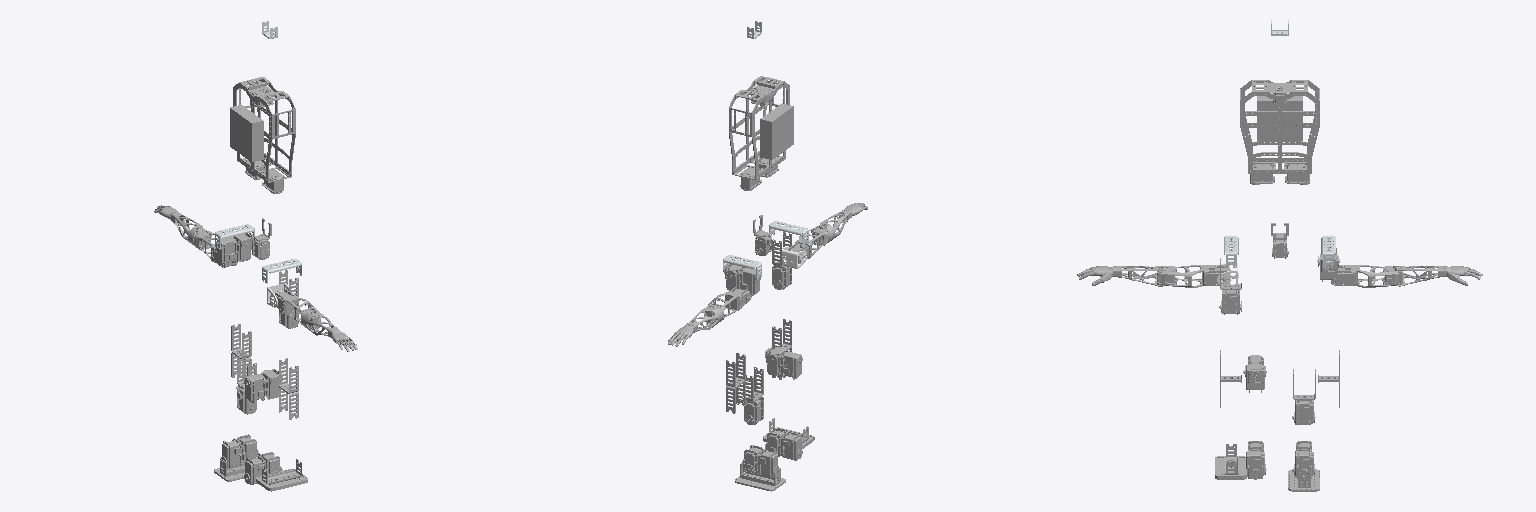
--- Facts derived from the render (not from the file) ---
Views: 3 orthographic renders of the robot side by side, from view 1: azimuth 30°, elevation 25°; view 2: azimuth 150°, elevation 25°; view 3: azimuth 270°, elevation 25°.
Robot: humanoid — 24 links, 23 joints (20 revolute, 3 fixed); root link base_link; default pose: every joint at zero.
Visible links, largest first — view 1: torso, leg_r_hip_r, leg_l_ankle_p, leg_l_hip_r, leg_r_knee, leg_r_ankle_r, arm_r_elbow, leg_r_ankle_p, arm_r_shou_r, leg_l_knee, leg_l_hip_p, arm_l_elbow; view 2: torso, leg_r_hip_r, leg_l_knee, leg_l_ankle_p, leg_l_hip_p, leg_r_ankle_p, leg_l_hip_r, leg_r_hip_p, arm_l_elbow, arm_l_shou_r, leg_l_ankle_r, arm_r_elbow (+1 smaller); view 3: torso, arm_l_shou_r, arm_r_shou_r, arm_r_elbow, arm_l_elbow, leg_r_ankle_r, leg_r_ankle_p, leg_l_hip_p, leg_r_hip_r, leg_l_ankle_p, leg_r_hip_p, leg_l_ankle_r.
Boxes of the visible links, x1,y1,x2,y2 form: torso: [230, 77, 295, 193]; leg_r_hip_r: [244, 369, 282, 402]; leg_l_ankle_p: [221, 434, 258, 467]; leg_l_hip_r: [216, 233, 253, 265]; leg_r_knee: [279, 358, 298, 419]; leg_r_ankle_r: [256, 459, 307, 491]; arm_r_elbow: [302, 311, 357, 351]; leg_r_ankle_p: [244, 452, 282, 484]; arm_r_shou_r: [274, 290, 320, 329]; leg_l_knee: [231, 324, 251, 378]; leg_l_hip_p: [236, 355, 256, 414]; arm_l_elbow: [154, 205, 203, 244]; torso: [729, 76, 793, 190]; leg_r_hip_r: [765, 347, 802, 379]; leg_l_knee: [726, 353, 745, 413]; leg_l_ankle_p: [741, 445, 778, 477]; leg_l_hip_p: [744, 367, 763, 424]; leg_r_ankle_p: [765, 428, 802, 460]; leg_l_hip_r: [723, 264, 760, 295]; leg_r_hip_p: [772, 232, 791, 289]; arm_l_elbow: [668, 306, 722, 346]; arm_l_shou_r: [704, 287, 751, 324]; leg_l_ankle_r: [735, 463, 785, 491]; arm_r_elbow: [819, 203, 867, 242]; torso: [1240, 80, 1319, 184]; arm_l_shou_r: [1331, 265, 1402, 287]; arm_r_shou_r: [1157, 265, 1228, 287]; arm_r_elbow: [1077, 266, 1166, 286]; arm_l_elbow: [1393, 266, 1482, 286]; leg_r_ankle_r: [1215, 444, 1246, 479]; leg_r_ankle_p: [1245, 441, 1266, 479]; leg_l_hip_p: [1292, 369, 1315, 424]; leg_r_hip_r: [1243, 355, 1266, 392]; leg_l_ankle_p: [1292, 441, 1315, 478]; leg_r_hip_p: [1219, 258, 1241, 314]; leg_l_ankle_r: [1288, 469, 1319, 491].
Bounding box of the posed robot: 0.14 × 1.02 × 1.3 m (x, y, z).
20 mesh visuals loaded from 21 distinct referenced files (20 binary STL); not drawn: 1 (reference not matched to a file when rendering).

The robot description file, URDF, robot "humanoid":
<robot
  name="humanoid">
  <link name="base_link"/>
  <joint name="waist" type="fixed">
    <parent link="base_link"/>
    <child link="torso"/>
    <origin rpy="0 0 0" xyz="0 0 0"/>
  </joint>
  <link name="torso">
    <inertial>
      <origin
        xyz="-0.0273890624666731 -6.24390539272213E-11 0.0090874604275595"
        rpy="0 0 0" />
      <mass
        value="1.79837714981727" />
      <inertia
        ixx="0.00965569591913053"
        ixy="2.62519057565357E-11"
        ixz="0.000466515313675841"
        iyy="0.00841839017045047"
        iyz="1.1590569581039E-11"
        izz="0.00428669058417288" />
    </inertial>
    <visual>
      <origin
        xyz="0 0 0"
        rpy="0 0 0" />
      <geometry>
        <mesh
          filename="package://meshes/torso.STL" />
      </geometry>
      <material
        name="">
        <color
          rgba="0.752941176470588 0.752941176470588 0.752941176470588 1" />
      </material>
    </visual>
    <collision>
      <origin
        xyz="0 0 0"
        rpy="0 0 0" />
      <geometry>
        <mesh
          filename="package://meshes/torso.STL" />
      </geometry>
    </collision>
  </link>
  <link
    name="head_p">
    <inertial>
      <origin
        xyz="-2.77555756156289E-17 -2.77555756156289E-17 -0.0235358644573578"
        rpy="0 0 0" />
      <mass
        value="0.00919745164566107" />
      <inertia
        ixx="0"
        ixy="0"
        ixz="0"
        iyy="0"
        iyz="0"
        izz="0" />
    </inertial>
    <visual>
      <origin
        xyz="0 0 0"
        rpy="0 0 0" />
      <geometry>
        <mesh
          filename="package://meshes/head_p.STL" />
      </geometry>
      <material
        name="">
        <color
          rgba="0.898039215686275 0.917647058823529 0.929411764705882 1" />
      </material>
    </visual>
    <collision>
      <origin
        xyz="0 0 0"
        rpy="0 0 0" />
      <geometry>
        <mesh
          filename="package://meshes/head_p.STL" />
      </geometry>
    </collision>
  </link>
  <joint
    name="j_head_p"
    type="revolute">
    <origin
      xyz="0.00749999999999998 0 0.154592980337507"
      rpy="-5.40227318867849E-16 3.26570417148563E-16 1.11022302462516E-16" />
    <parent
      link="torso" />
    <child
      link="head_p" />
    <axis
      xyz="0 0 1" />
    <limit effort="2.5" lower="-1.57" upper="1.57" velocity="1.5"/>
  </joint>
  <link
    name="head_t">
    <inertial>
      <origin
        xyz="0.000362537622920212 6.79783928278499E-06 0.0434079674333546"
        rpy="0 0 0" />
      <mass
        value="0.250310857747946" />
      <inertia
        ixx="0.000109893254796935"
        ixy="6.15726205395829E-10"
        ixz="-1.29430349863509E-06"
        iyy="0.000109000514641629"
        iyz="9.79402169676494E-08"
        izz="9.33135190800592E-07" />
    </inertial>
    <visual>
      <origin
        xyz="0 0 0"
        rpy="0 0 0" />
      <geometry>
        <mesh
          filename="package://meshes/head_t.STL" />
      </geometry>
      <material
        name="">
        <color
          rgba="0.752941176470588 0.752941176470588 0.752941176470588 1" />
      </material>
    </visual>
    <collision>
      <origin
        xyz="0 0 0"
        rpy="0 0 0" />
      <geometry>
        <mesh
          filename="package://meshes/head_t.STL" />
      </geometry>
    </collision>
  </link>
  <joint
    name="j_head_t"
    type="revolute">
    <origin
      xyz="0 -0.000250000000004302 0"
      rpy="1.98830324825673E-16 -4.37592719611079E-16 -1.11022302462516E-16" />
    <parent
      link="head_p" />
    <child
      link="head_t" />
    <axis
      xyz="0 1 0" />
    <limit effort="2.5" lower="-1.05" upper="1.05" velocity="1.5"/>
  </joint>
  <link
    name="leg_r_hip_y">
    <inertial>
      <origin
        xyz="-0.019 6.93889390390723E-18 0.0296849328442002"
        rpy="0 0 0" />
      <mass
        value="0.0310306790400135" />
      <inertia
        ixx="0"
        ixy="0"
        ixz="0"
        iyy="0"
        iyz="0"
        izz="0" />
    </inertial>
    <visual>
      <origin
        xyz="0 0 0"
        rpy="0 0 0" />
      <geometry>
        <mesh
          filename="package://meshes/leg_r_hip_y.STL" />
      </geometry>
      <material
        name="">
        <color
          rgba="0.898039215686275 0.917647058823529 0.929411764705882 1" />
      </material>
    </visual>
    <collision>
      <origin
        xyz="0 0 0"
        rpy="0 0 0" />
      <geometry>
        <mesh
          filename="package://meshes/leg_r_hip_y.STL" />
      </geometry>
    </collision>
  </link>
  <joint
    name="j_leg_r_hip_y"
    type="revolute">
    <origin
      xyz="0 -0.0612500000000002 -0.179371019662496"
      rpy="-3.41396994042176E-16 0 0" />
    <parent
      link="torso" />
    <child
      link="leg_r_hip_y" />
    <axis
      xyz="0 0 -1" />
    <limit effort="6.0" lower="-1.05" upper="1.05" velocity="1.5"/>
  </joint>
  <link
    name="leg_r_hip_r">
    <inertial>
      <origin
        xyz="-0.0199386693707081 8.18688971842077E-05 -0.0148029204359108"
        rpy="0 0 0" />
      <mass
        value="0.327163601832517" />
      <inertia
        ixx="7.62597114711917E-06"
        ixy="-5.58485632325043E-07"
        ixz="-1.06787629028062E-05"
        iyy="0.000186208035995009"
        iyz="-1.51343454864388E-06"
        izz="0.000185497003559403" />
    </inertial>
    <visual>
      <origin
        xyz="0 0 0"
        rpy="0 0 0" />
      <geometry>
        <mesh
          filename="package://meshes/leg_r_hip_r.STL" />
      </geometry>
      <material
        name="">
        <color
          rgba="0.752941176470588 0.752941176470588 0.752941176470588 1" />
      </material>
    </visual>
    <collision>
      <origin
        xyz="0 0 0"
        rpy="0 0 0" />
      <geometry>
        <mesh
          filename="package://meshes/leg_r_hip_r.STL" />
      </geometry>
    </collision>
  </link>
  <joint
    name="j_leg_r_hip_r"
    type="revolute">
    <origin
      xyz="0.000499999999999945 0 0"
      rpy="1.13124042283043E-16 -2.61242557992875E-16 6.50156804127527E-17" />
    <parent
      link="leg_r_hip_y" />
    <child
      link="leg_r_hip_r" />
    <axis
      xyz="1 0 0" />
    <limit effort="8.4" lower="-1.05" upper="1.05" velocity="1.5"/> 
  </joint>
  <link
    name="leg_r_hip_p">
    <inertial>
      <origin
        xyz="-4.73613010784357E-05 0.000146666146782187 -0.10142537495828"
        rpy="0 0 0" />
      <mass
        value="0.187828254323874" />
      <inertia
        ixx="9.89657264075222E-05"
        ixy="-1.56062320516749E-09"
        ixz="2.1852497720039E-07"
        iyy="9.65248837003217E-05"
        iyz="1.78170551469187E-06"
        izz="2.45902731639314E-06" />
    </inertial>
    <visual>
      <origin
        xyz="0 0 0"
        rpy="0 0 0" />
      <geometry>
        <mesh
          filename="package://meshes/leg_r_hip_p.STL" />
      </geometry>
      <material
        name="">
        <color
          rgba="0.752941176470588 0.752941176470588 0.752941176470588 1" />
      </material>
    </visual>
    <collision>
      <origin
        xyz="0 0 0"
        rpy="0 0 0" />
      <geometry>
        <mesh
          filename="package://meshes/leg_r_hip_p.STL" />
      </geometry>
    </collision>
  </link>
  <joint
    name="j_leg_r_hip_p"
    type="revolute">
    <origin
      xyz="0 0 0"
      rpy="-1.13124042283043E-16 2.15500304946813E-16 -1.04264380931413E-17" />
    <parent
      link="leg_r_hip_r" />
    <child
      link="leg_r_hip_p" />
    <axis
      xyz="0 1 0" />
    <limit effort="8.4" lower="-1.57" upper="1.57" velocity="1.5"/>
  </joint>
  <link
    name="leg_r_knee">
    <inertial>
      <origin
        xyz="6.10622663543836E-16 4.16333634234434E-17 -0.0720000000000057"
        rpy="0 0 0" />
      <mass
        value="0.0471244364483381" />
      <inertia
        ixx="3.47240331970278E-05"
        ixy="2.08114259181133E-24"
        ixz="6.38005899850245E-21"
        iyy="3.47240295022833E-05"
        iyz="-1.13268007040326E-08"
        izz="3.69474441842752E-12" />
    </inertial>
    <visual>
      <origin
        xyz="0 0 0"
        rpy="0 0 0" />
      <geometry>
        <mesh
          filename="package://meshes/leg_r_knee.STL" />
      </geometry>
      <material
        name="">
        <color
          rgba="0.752941176470588 0.752941176470588 0.752941176470588 1" />
      </material>
    </visual>
    <collision>
      <origin
        xyz="0 0 0"
        rpy="0 0 0" />
      <geometry>
        <mesh
          filename="package://meshes/leg_r_knee.STL" />
      </geometry>
    </collision>
  </link>
  <joint
    name="j_leg_r_knee"
    type="revolute">
    <origin
      xyz="0 0 -0.12650000000002"
      rpy="-1.66533453693773E-16 -2.81587712202917E-16 4.90950377141293E-16" />
    <parent
      link="leg_r_hip_p" />
    <child
      link="leg_r_knee" />
    <axis
      xyz="0 1 0" />
    <limit effort="8.4" lower="-1.57" upper="1.57" velocity="1.5"/>
  </joint>
  <link
    name="leg_r_ankle_p">
    <inertial>
      <origin
        xyz="-0.019967775832417 8.5312065049449E-05 0.0148115624874952"
        rpy="0 0 0" />
      <mass
        value="0.326972712808706" />
      <inertia
        ixx="7.58393095523023E-06"
        ixy="-5.32557584809135E-07"
        ixz="1.05552686931231E-05"
        iyy="0.00018575582149946"
        iyz="1.51216245176916E-06"
        izz="0.000185086455382627" />
    </inertial>
    <visual>
      <origin
        xyz="0 0 0"
        rpy="0 0 0" />
      <geometry>
        <mesh
          filename="package://meshes/leg_r_ankle_p.STL" />
      </geometry>
      <material
        name="">
        <color
          rgba="0.752941176470588 0.752941176470588 0.752941176470588 1" />
      </material>
    </visual>
    <collision>
      <origin
        xyz="0 0 0"
        rpy="0 0 0" />
      <geometry>
        <mesh
          filename="package://meshes/leg_r_ankle_p.STL" />
      </geometry>
    </collision>
  </link>
  <joint
    name="j_leg_r_ankle_p"
    type="revolute">
    <origin
      xyz="0 0 -0.144000000000011"
      rpy="2.77555756156288E-17 9.37952628792816E-16 -4.34517316998388E-16" />
    <parent
      link="leg_r_knee" />
    <child
      link="leg_r_ankle_p" />
    <axis
      xyz="0 -1 0" />
    <limit effort="8.4" lower="-1.57" upper="1.57" velocity="1.5"/>
  </joint>
  <link
    name="leg_r_ankle_r">
    <inertial>
      <origin
        xyz="-0.0195052351132241 2.08166817117217E-17 -0.035336618625496"
        rpy="0 0 0" />
      <mass
        value="0.08603420971545" />
      <inertia
        ixx="1.55034338934218E-06"
        ixy="1.67488937898155E-23"
        ixz="-1.4360711995626E-09"
        iyy="1.55034471956392E-06"
        iyz="1.80816499723242E-20"
        izz="1.33022174596314E-12" />
    </inertial>
    <visual>
      <origin
        xyz="0 0 0"
        rpy="0 0 0" />
      <geometry>
        <mesh
          filename="package://meshes/leg_r_ankle_r.STL" />
      </geometry>
      <material
        name="">
        <color
          rgba="0.752941176470588 0.752941176470588 0.752941176470588 1" />
      </material>
    </visual>
    <collision>
      <origin
        xyz="0 0 0"
        rpy="0 0 0" />
      <geometry>
        <mesh
          filename="package://meshes/leg_r_ankle_r.STL" />
      </geometry>
    </collision>
  </link>
  <joint
    name="j_leg_r_ankle_r"
    type="revolute">
    <origin
      xyz="0 0 0"
      rpy="2.4980018054066E-16 -1.39663998698079E-15 -5.70601140040284E-17" />
    <parent
      link="leg_r_ankle_p" />
    <child
      link="leg_r_ankle_r" />
    <axis
      xyz="-1 0 0" />
    <limit effort="8.4" lower="-1.57" upper="1.57" velocity="1.5"/>
  </joint>
  <link
    name="leg_l_hip_y">
    <inertial>
      <origin
        xyz="-0.019 0 0.0296849328442002"
        rpy="0 0 0" />
      <mass
        value="0.0310306790400135" />
      <inertia
        ixx="0"
        ixy="0"
        ixz="0"
        iyy="0"
        iyz="0"
        izz="0" />
    </inertial>
    <visual>
      <origin
        xyz="0 0 0"
        rpy="0 0 0" />
      <geometry>
        <mesh
          filename="package://meshes/leg_l_hip_y.STL" />
      </geometry>
      <material
        name="">
        <color
          rgba="0.898039215686275 0.917647058823529 0.929411764705882 1" />
      </material>
    </visual>
    <collision>
      <origin
        xyz="0 0 0"
        rpy="0 0 0" />
      <geometry>
        <mesh
          filename="package://meshes/leg_l_hip_y.STL" />
      </geometry>
    </collision>
  </link>
  <joint
    name="j_leg_l_hip_y"
    type="revolute">
    <origin
      xyz="0 0.06125 -0.179371019662496"
      rpy="-3.41725588386687E-16 1.40441582496151E-19 -4.79463341027122E-35" />
    <parent
      link="torso" />
    <child
      link="leg_l_hip_y" />
    <axis
      xyz="0 0 -1" />
    <limit effort="6.0" lower="-1.57" upper="1.57" velocity="1.5"/>
  </joint>
  <link
    name="leg_l_hip_r">
    <inertial>
      <origin
        xyz="-0.0199386693707081 8.18688971842285E-05 -0.0148029204359109"
        rpy="0 0 0" />
      <mass
        value="0.327163601832517" />
      <inertia
        ixx="7.62597114711925E-06"
        ixy="-5.58485632324876E-07"
        ixz="-1.06787629028065E-05"
        iyy="0.00018620803599501"
        iyz="-1.51343454864386E-06"
        izz="0.000185497003559403" />
    </inertial>
    <visual>
      <origin
        xyz="0 0 0"
        rpy="0 0 0" />
      <geometry>
        <mesh
          filename="package://meshes/leg_l_hip_r.STL" />
      </geometry>
      <material
        name="">
        <color
          rgba="0.752941176470588 0.752941176470588 0.752941176470588 1" />
      </material>
    </visual>
    <collision>
      <origin
        xyz="0 0 0"
        rpy="0 0 0" />
      <geometry>
        <mesh
          filename="package://meshes/leg_l_hip_r.STL" />
      </geometry>
    </collision>
  </link>
  <joint
    name="j_leg_l_hip_r"
    type="revolute">
    <origin
      xyz="0.000499999999999973 0 0"
      rpy="1.06513742723647E-16 -2.61266749644178E-16 5.93124751222884E-17" />
    <parent
      link="leg_l_hip_y" />
    <child
      link="leg_l_hip_r" />
    <axis
      xyz="1 0 0" />
    <limit effort="8.4" lower="-1.57" upper="1.57" velocity="1.5"/>
  </joint>
  <link
    name="leg_l_hip_p">
    <inertial>
      <origin
        xyz="-4.73613010784357E-05 0.00014666614678216 -0.10142537495828"
        rpy="0 0 0" />
      <mass
        value="0.187828254323874" />
      <inertia
        ixx="9.89657264075226E-05"
        ixy="-1.56062320517169E-09"
        ixz="2.18524977200376E-07"
        iyy="9.65248837003221E-05"
        iyz="1.78170551469195E-06"
        izz="2.45902731639314E-06" />
    </inertial>
    <visual>
      <origin
        xyz="0 0 0"
        rpy="0 0 0" />
      <geometry>
        <mesh
          filename="package://meshes/leg_l_hip_p.STL" />
      </geometry>
      <material
        name="">
        <color
          rgba="0.752941176470588 0.752941176470588 0.752941176470588 1" />
      </material>
    </visual>
    <collision>
      <origin
        xyz="0 0 0"
        rpy="0 0 0" />
      <geometry>
        <mesh
          filename="package://meshes/leg_l_hip_p.STL" />
      </geometry>
    </collision>
  </link>
  <joint
    name="j_leg_l_hip_p"
    type="revolute">
    <origin
      xyz="0 0 0"
      rpy="-1.22687743945067E-16 1.9173736902261E-16 7.3408853928096E-17" />
    <parent
      link="leg_l_hip_r" />
    <child
      link="leg_l_hip_p" />
    <axis
      xyz="0 1 0" />
    <limit effort="8.4" lower="-1.57" upper="1.57" velocity="1.5"/>
  </joint>
  <link
    name="leg_l_knee">
    <inertial>
      <origin
        xyz="6.38378239159465E-16 2.77555756156289E-17 -0.0720000000000058"
        rpy="0 0 0" />
      <mass
        value="0.047124436448338" />
      <inertia
        ixx="3.47240331970279E-05"
        ixy="8.50467151160005E-23"
        ixz="-1.2053958230897E-20"
        iyy="3.47240295022834E-05"
        iyz="-1.13268007039894E-08"
        izz="3.69474441839934E-12" />
    </inertial>
    <visual>
      <origin
        xyz="0 0 0"
        rpy="0 0 0" />
      <geometry>
        <mesh
          filename="package://meshes/leg_l_knee.STL" />
      </geometry>
      <material
        name="">
        <color
          rgba="0.752941176470588 0.752941176470588 0.752941176470588 1" />
      </material>
    </visual>
    <collision>
      <origin
        xyz="0 0 0"
        rpy="0 0 0" />
      <geometry>
        <mesh
          filename="package://meshes/leg_l_knee.STL" />
      </geometry>
    </collision>
  </link>
  <joint
    name="j_leg_l_knee"
    type="revolute">
    <origin
      xyz="0 0 -0.1265"
      rpy="-3.57980314686197E-17 -3.19189119579732E-16 4.53547757052351E-16" />
    <parent
      link="leg_l_hip_p" />
    <child
      link="leg_l_knee" />
    <axis
      xyz="0 1 0" />
    <limit effort="8.4" lower="-1.57" upper="1.57" velocity="1.5"/>
  </joint>
  <link
    name="leg_l_ankle_p">
    <inertial>
      <origin
        xyz="-0.0199677758324171 8.53120650493866E-05 0.0148115624874952"
        rpy="0 0 0" />
      <mass
        value="0.326972712808706" />
      <inertia
        ixx="7.58393095523036E-06"
        ixy="-5.32557584809384E-07"
        ixz="1.05552686931239E-05"
        iyy="0.000185755821499461"
        iyz="1.51216245176923E-06"
        izz="0.000185086455382628" />
    </inertial>
    <visual>
      <origin
        xyz="0 0 0"
        rpy="0 0 0" />
      <geometry>
        <mesh
          filename="package://meshes/leg_l_ankle_p.STL" />
      </geometry>
      <material
        name="">
        <color
          rgba="0.752941176470588 0.752941176470588 0.752941176470588 1" />
      </material>
    </visual>
    <collision>
      <origin
        xyz="0 0 0"
        rpy="0 0 0" />
      <geometry>
        <mesh
          filename="package://meshes/leg_l_ankle_p.STL" />
      </geometry>
    </collision>
  </link>
  <joint
    name="j_leg_l_ankle_p"
    type="revolute">
    <origin
      xyz="0 0 -0.144000000000011"
      rpy="-3.64033007199883E-16 9.99200722162641E-16 -4.19735632408962E-16" />
    <parent
      link="leg_l_knee" />
    <child
      link="leg_l_ankle_p" />
    <axis
      xyz="0 -1 0" />
    <limit effort="8.4" lower="-1.57" upper="1.57" velocity="1.5"/>
  </joint>
  <link
    name="leg_l_ankle_r">
    <inertial>
      <origin
        xyz="-0.0195052351132241 2.77555756156289E-17 -0.0353366186254961"
        rpy="0 0 0" />
      <mass
        value="0.08603420971545" />
      <inertia
        ixx="1.55034338934221E-06"
        ixy="-4.26949572354957E-24"
        ixz="-1.43607119957663E-09"
        iyy="1.55034471956396E-06"
        iyz="-4.6092314035672E-21"
        izz="1.33022174598911E-12" />
    </inertial>
    <visual>
      <origin
        xyz="0 0 0"
        rpy="0 0 0" />
      <geometry>
        <mesh
          filename="package://meshes/leg_l_ankle_r.STL" />
      </geometry>
      <material
        name="">
        <color
          rgba="0.752941176470588 0.752941176470588 0.752941176470588 1" />
      </material>
    </visual>
    <collision>
      <origin
        xyz="0 0 0"
        rpy="0 0 0" />
      <geometry>
        <mesh
          filename="package://meshes/leg_l_ankle_r.STL" />
      </geometry>
    </collision>
  </link>
  <joint
    name="j_leg_l_ankle_r"
    type="revolute">
    <origin
      xyz="0 0 0"
      rpy="2.4980018054066E-16 -1.02028117652055E-15 -1.7762186294493E-18" />
    <parent
      link="leg_l_ankle_p" />
    <child
      link="leg_l_ankle_r" />
    <axis
      xyz="-1 0 0" />
    <limit effort="8.4" lower="-1.57" upper="1.57" velocity="1.5"/>
  </joint>
  <link
    name="arm_r_shou_p">
    <inertial>
      <origin
        xyz="-0.00971572315740127 0.0232636812439506 0.00248658187310814"
        rpy="0 0 0" />
      <mass
        value="0.0265049875032748" />
      <inertia
        ixx="0"
        ixy="0"
        ixz="0"
        iyy="0"
        iyz="0"
        izz="0" />
    </inertial>
    <visual>
      <origin
        xyz="0 0 0"
        rpy="0 0 0" />
      <geometry>
        <mesh
          filename="package://meshes/arm_r_shou_p.STL" />
      </geometry>
      <material
        name="">
        <color
          rgba="1 1 1 1" />
      </material>
    </visual>
    <collision>
      <origin
        xyz="0 0 0"
        rpy="0 0 0" />
      <geometry>
        <mesh
          filename="package://meshes/arm_r_shou_p.STL" />
      </geometry>
    </collision>
  </link>
  <joint
    name="j_arm_r_shou_p"
    type="revolute">
    <origin
      xyz="0 -0.141338919000003 0.0828789803374983"
      rpy="-3.41396994042176E-16 0 0" />
    <parent
      link="torso" />
    <child
      link="arm_r_shou_p" />
    <axis
      xyz="0 -1 0" />
    <limit effort="6.0" lower="-3.0" upper="3.0" velocity="1.5"/>
  </joint>
  <link
    name="arm_r_shou_r">
    <inertial>
      <origin
        xyz="-0.00693976228444068 6.95136029715826E-06 -0.0644461862877316"
        rpy="0 0 0" />
      <mass
        value="0.233846079600851" />
      <inertia
        ixx="0.000818368072836307"
        ixy="-4.28237606045908E-09"
        ixz="3.48069980029283E-05"
        iyy="0.000820992782660462"
        iyz="1.75677549408184E-07"
        izz="4.45058683602632E-06" />
    </inertial>
    <visual>
      <origin
        xyz="0 0 0"
        rpy="0 0 0" />
      <geometry>
        <mesh
          filename="package://meshes/arm_r_shou_r.STL" />
      </geometry>
      <material
        name="">
        <color
          rgba="0.752941176470588 0.752941176470588 0.752941176470588 1" />
      </material>
    </visual>
    <collision>
      <origin
        xyz="0 0 0"
        rpy="0 0 0" />
      <geometry>
        <mesh
          filename="package://meshes/arm_r_shou_r.STL" />
      </geometry>
    </collision>
  </link>
  <joint
    name="j_arm_r_shou_r"
    type="revolute">
    <origin
      xyz="-0.000104304124999982 0 0"
      rpy="-1.5707963 0 0" />
    <parent
      link="arm_r_shou_p" />
    <child
      link="arm_r_shou_r" />
    <axis
      xyz="-1 0 0" />
    <limit effort="6.0" lower="-1.57" upper="1.57" velocity="1.5"/>
  </joint>
  <link
    name="arm_r_elbow">
    <inertial>
      <origin
        xyz="-0.00512670543361113 -0.00677518273179854 -0.105559166000223"
        rpy="0 0 0" />
      <mass
        value="0.0660036002352666" />
      <inertia
        ixx="0.000169149561079679"
        ixy="4.66529988051378E-07"
        ixz="1.33012462127972E-05"
        iyy="0.000169988973199959"
        iyz="-5.92548862075287E-06"
        izz="1.25507514782134E-06" />
    </inertial>
    <visual>
      <origin
        xyz="0 0 0"
        rpy="0 0 0" />
      <geometry>
        <mesh
          filename="package://meshes/arm_r_elbow.STL" />
      </geometry>
      <material
        name="">
        <color
          rgba="0.752941176470588 0.752941176470588 0.752941176470588 1" />
      </material>
    </visual>
    <collision>
      <origin
        xyz="0 0 0"
        rpy="0 0 0" />
      <geometry>
        <mesh
          filename="package://meshes/arm_r_elbow.STL" />
      </geometry>
    </collision>
  </link>
  <joint
    name="j_arm_r_elbow"
    type="revolute">
    <origin
      xyz="-0.00416077518005581 0.000250000000000285 -0.155750000000015"
      rpy="1.8590512822718E-16 1.07986536379556E-12 5.63893510830468E-15" />
    <parent
      link="arm_r_shou_r" />
    <child
      link="arm_r_elbow" />
    <axis
      xyz="0 -1 0" />
    <limit effort="2.5" lower="-2.5" upper="2.5" velocity="1.5"/>
  </joint>

  <link
    name="arm_r_hand">
    <inertial>
      <origin
        xyz="0 0 0"
        rpy="0 0 0" />
      <mass
        value="0" />
      <inertia
        ixx="0"
        ixy="0"
        ixz="0"
        iyy="0"
        iyz="0"
        izz="0" />
    </inertial>
  </link>
  <joint
    name="j_arm_r_hand"
    type="fixed">
    <origin
      xyz="0 0 -0.211"
      rpy="0 0 0" />
    <parent
      link="arm_r_elbow" />
    <child
      link="arm_r_hand" />
  </joint>

  <link
    name="arm_l_shou_p">
    <inertial>
      <origin
        xyz="-0.0097157471996559 -0.0232636988074812 0.00248650683809079"
        rpy="0 0 0" />
      <mass
        value="0.0265052286624278"/>
      <inertia
        ixx="0"
        ixy="0"
        ixz="0"
        iyy="0"
        iyz="0"
        izz="0" />
    </inertial>
    <visual>
      <origin
        xyz="0 0 0"
        rpy="0 0 0" />
      <geometry>
        <mesh
          filename="package://meshes/arm_l_shou_p.STL" />
      </geometry>
      <material
        name="">
        <color
          rgba="1 1 1 1" />
      </material>
    </visual>
    <collision>
      <origin
        xyz="0 0 0"
        rpy="0 0 0" />
      <geometry>
        <mesh
          filename="package://meshes/arm_l_shou_p.STL" />
      </geometry>
    </collision>
  </link>
  <joint
    name="j_arm_l_shou_p"
    type="revolute">
    <origin
      xyz="0 0.141338919000003 0.0828789803374986"
      rpy="-3.41396994042176E-16 0 0" />
    <parent
      link="torso" />
    <child
      link="arm_l_shou_p" />
    <axis
      xyz="0 1 0" />
    <limit effort="6.0" lower="-3.14" upper="3.14" velocity="1.5"/>
  </joint>
  <link
    name="arm_l_shou_r">
    <inertial>
      <origin
        xyz="-0.00693976228444099 6.95136013592612E-06 -0.064446186288791"
        rpy="0 0 0" />
      <mass
        value="0.233846079603485" />
      <inertia
        ixx="0.000818368072859065"
        ixy="-4.28237595601569E-09"
        ixz="3.48069980030393E-05"
        iyy="0.000820992782683196"
        iyz="1.7567754639665E-07"
        izz="4.45058683600802E-06" />
    </inertial>
    <visual>
      <origin
        xyz="0 0 0"
        rpy="0 0 0" />
      <geometry>
        <mesh
          filename="package://meshes/arm_l_shou_r.STL" />
      </geometry>
      <material
        name="">
        <color
          rgba="0.752941176470588 0.752941176470588 0.752941176470588 1" />
      </material>
    </visual>
    <collision>
      <origin
        xyz="0 0 0"
        rpy="0 0 0" />
      <geometry>
        <mesh
          filename="package://meshes/arm_l_shou_r.STL" />
      </geometry>
    </collision>
  </link>
  <joint
    name="j_arm_l_shou_r"
    type="revolute">
    <origin
      xyz="0 0 0"
      rpy="1.5707963 0 0" />
    <parent
      link="arm_l_shou_p" />
    <child
      link="arm_l_shou_r" />
    <axis
      xyz="-1 0 0" />
    <limit effort="6.0" lower="-1.57" upper="1.57" velocity="1.5"/>
  </joint>
  <link
    name="arm_l_elbow">
    <inertial>
      <origin
        xyz="-0.00512713985368948 0.00677513078810973 -0.105558133392576"
        rpy="0 0 0" />
      <mass
        value="0.0660042396649519" />
      <inertia
        ixx="0.000169152316204233"
        ixy="-4.66529921444557E-07"
        ixz="1.33030657569407E-05"
        iyy="0.000169992050899239"
        iyz="5.92477580349958E-06"
        izz="1.25529081427723E-06" />
    </inertial>
    <visual>
      <origin
        xyz="0 0 0"
        rpy="0 0 0" />
      <geometry>
        <mesh
          filename="package://meshes/arm_l_elbow.STL" />
      </geometry>
      <material
        name="">
        <color
          rgba="0.752941176470588 0.752941176470588 0.752941176470588 1" />
      </material>
    </visual>
    <collision>
      <origin
        xyz="0 0 0"
        rpy="0 0 0" />
      <geometry>
        <mesh
          filename="package://meshes/arm_l_elbow.STL" />
      </geometry>
    </collision>
  </link>
  <joint
    name="j_arm_l_elbow"
    type="revolute">
    <origin
      xyz="-0.00416077518006452 0.000250000000001332 -0.15575000000001"
      rpy="0 0 -8.09940774021887E-13" />
    <parent
      link="arm_l_shou_r" />
    <child
      link="arm_l_elbow" />
    <axis
      xyz="0 1 0" />
    <limit effort="2.5" lower="-1.57" upper="1.57" velocity="1.5"/>
  </joint>
  <link
    name="arm_l_hand">
    <inertial>
      <origin
        xyz="0 0 0"
        rpy="0 0 0" />
      <mass
        value="0" />
      <inertia
        ixx="0"
        ixy="0"
        ixz="0"
        iyy="0"
        iyz="0"
        izz="0" />
    </inertial>
  </link>
  <joint
    name="j_arm_l_hand"
    type="fixed">
    <origin
      xyz="0 0 -0.211"
      rpy="0 0 0" />
    <parent
      link="arm_l_elbow" />
    <child
      link="arm_l_hand" />
  </joint>
</robot>
